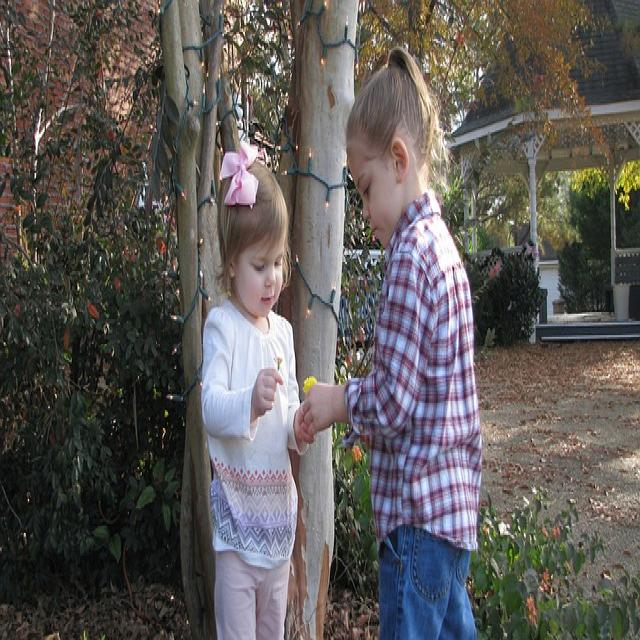child: (303, 46, 484, 640), (201, 138, 314, 640)
